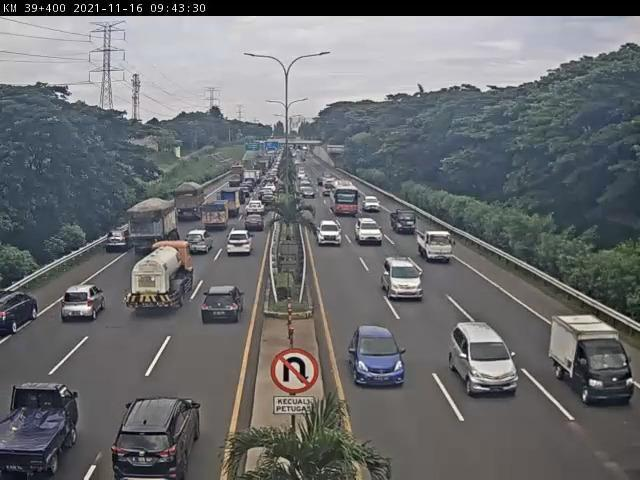bus: (330, 181, 361, 217)
car: (2, 382, 82, 480), (107, 399, 200, 480), (450, 321, 522, 399), (352, 326, 407, 390), (385, 256, 426, 304), (62, 285, 106, 322), (203, 287, 245, 323), (180, 230, 214, 256), (354, 217, 384, 245), (105, 231, 133, 256), (229, 234, 254, 261), (318, 223, 341, 245), (245, 212, 267, 234), (364, 196, 383, 214)
truck: (550, 315, 634, 407), (126, 240, 196, 314), (127, 197, 180, 258), (417, 227, 458, 265), (172, 184, 207, 224), (201, 200, 230, 234), (392, 207, 419, 236)
